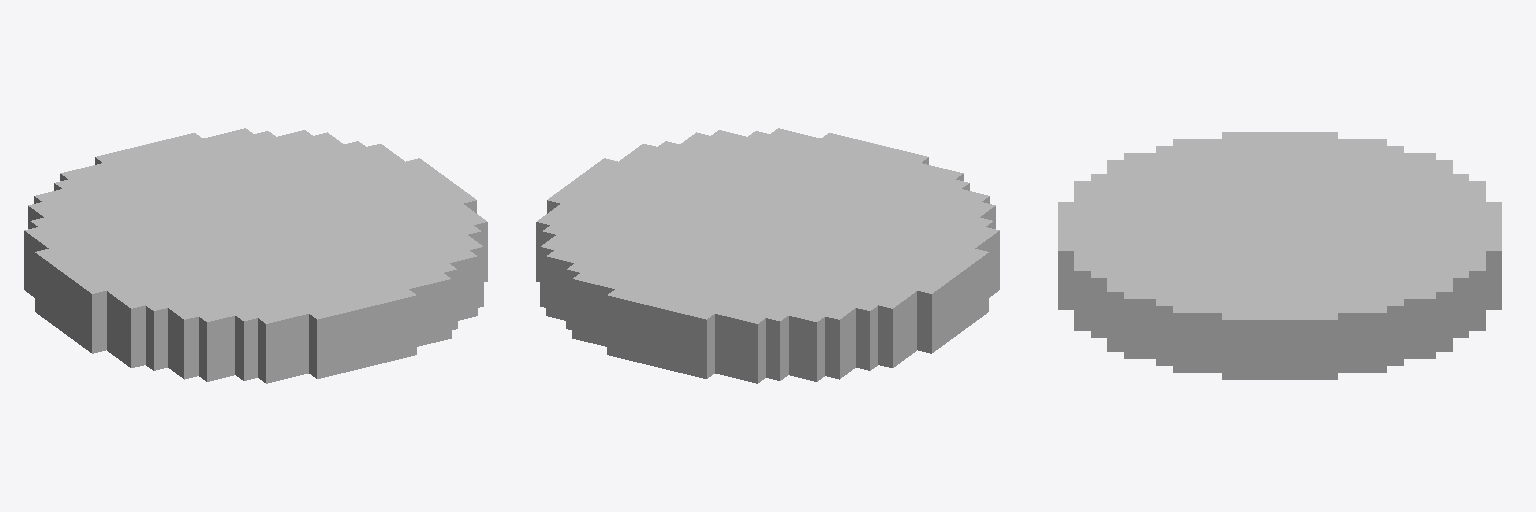
The model's file is planta.obj.
The picture shows the model from 3 angles: view 1: azimuth 30°, elevation 25°; view 2: azimuth 150°, elevation 25°; view 3: azimuth 270°, elevation 25°; orthographic projection.
Visible parts, largest first — view 1: object 1; view 2: object 1; view 3: object 1.
Boxes of the visible parts, x1,y1,x2,y2 form: object 1: [24, 128, 487, 383]; object 1: [536, 128, 999, 383]; object 1: [1058, 132, 1501, 379].
Size of the model in its own units: 2.7 by 0.4 by 2.7.